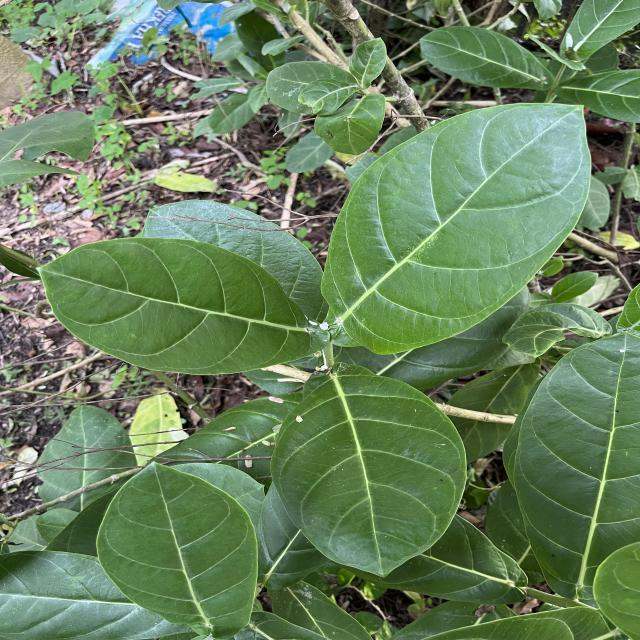Calotropis gigantea: (318, 100, 594, 358), (270, 366, 473, 582), (34, 235, 328, 377), (509, 328, 640, 604), (94, 455, 263, 640), (418, 24, 552, 90)
